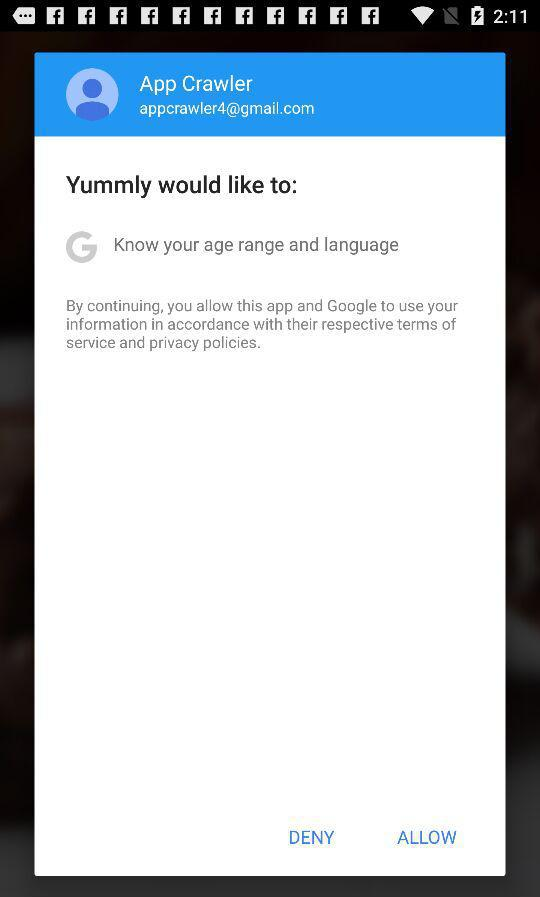Icon: (66, 68, 120, 122)
Modal: (35, 53, 506, 877)
Text: (65, 297, 459, 352), (114, 235, 399, 258), (65, 173, 298, 200), (140, 101, 315, 120), (140, 73, 254, 98), (66, 231, 99, 265), (396, 829, 457, 846), (289, 829, 336, 845)
UpperTaskBar: (1, 1, 540, 33)
